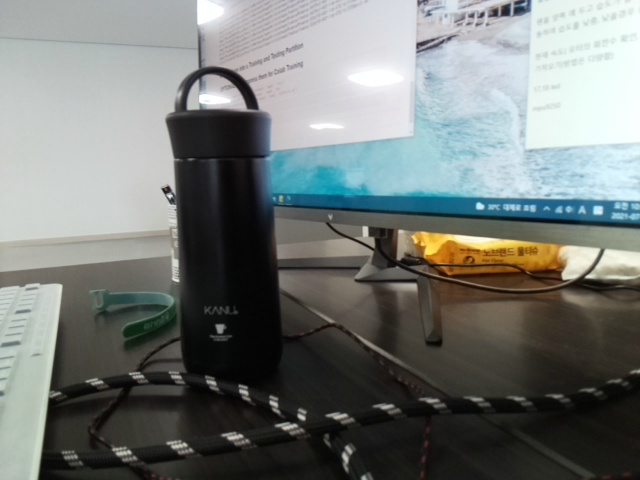Bottle: (155, 69, 303, 386)
